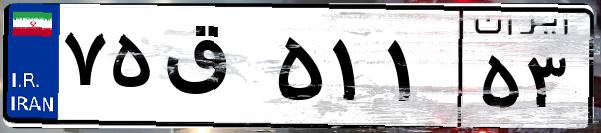1: (385, 28, 445, 110), (330, 28, 385, 110)
3: (525, 38, 570, 115)
5: (270, 28, 330, 110), (475, 38, 525, 113), (110, 28, 158, 98)
7: (57, 26, 110, 100)
ق: (158, 20, 270, 120)
